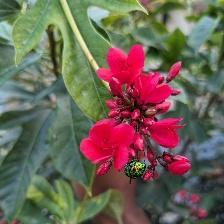jatropha: (78, 119, 138, 172), (98, 41, 143, 82)
